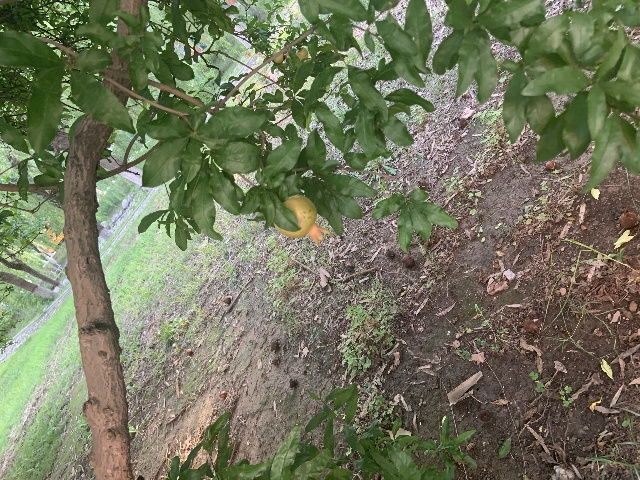mid-growth: (273, 194, 330, 246), (295, 46, 311, 61), (272, 49, 288, 63)
